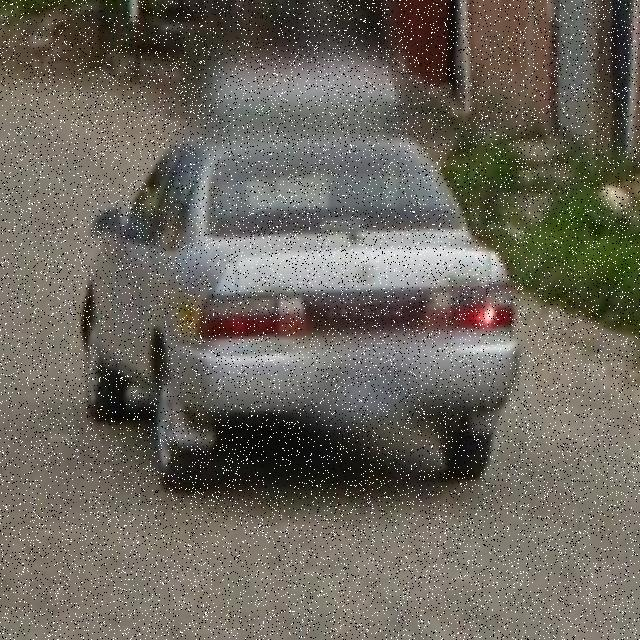cars: (84, 112, 520, 480)
